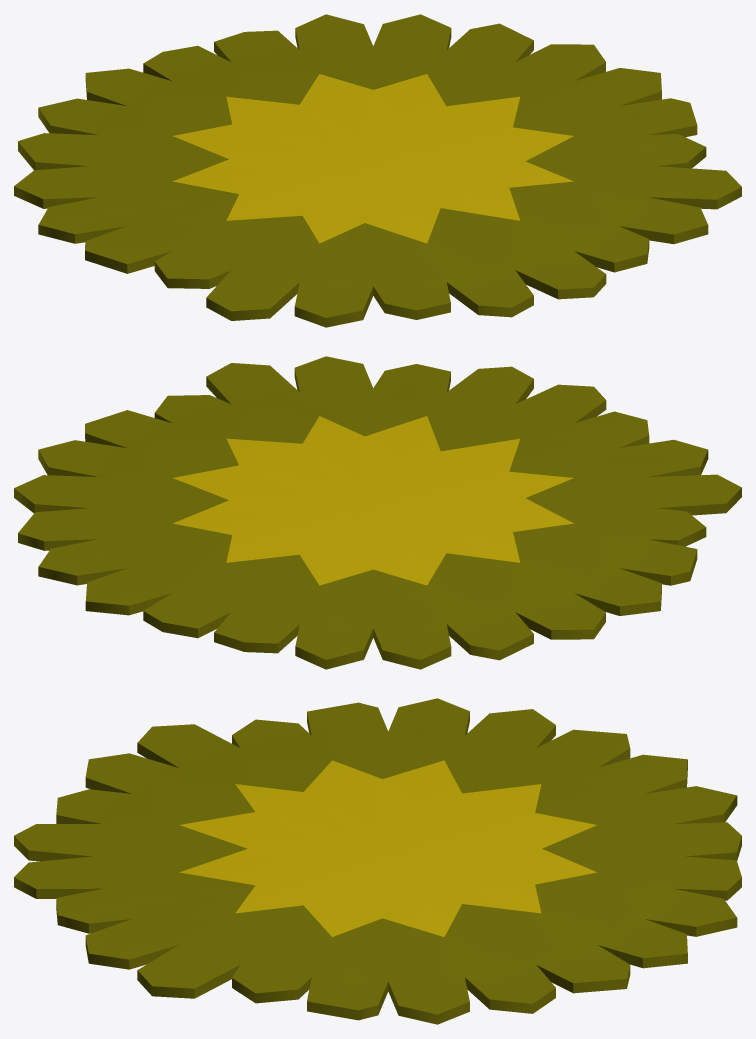
Rendered from Terra_Fertil.fbx.
3 views of the same model, one above another, from view 1: azimuth 30°, elevation 25°; view 2: azimuth 150°, elevation 25°; view 3: azimuth 270°, elevation 25° (orthographic). The views are drawn at different scales.
Parts seen in each view (by area): view 1: pCylinder1; view 2: pCylinder1; view 3: pCylinder1.
Boxes of the visible parts, x1=… form: pCylinder1: x1=14, y1=14, x2=741, y2=327; pCylinder1: x1=14, y1=356, x2=741, y2=669; pCylinder1: x1=14, y1=698, x2=741, y2=1024.
Size of the model in its own units: 595 by 15.58 by 579.
